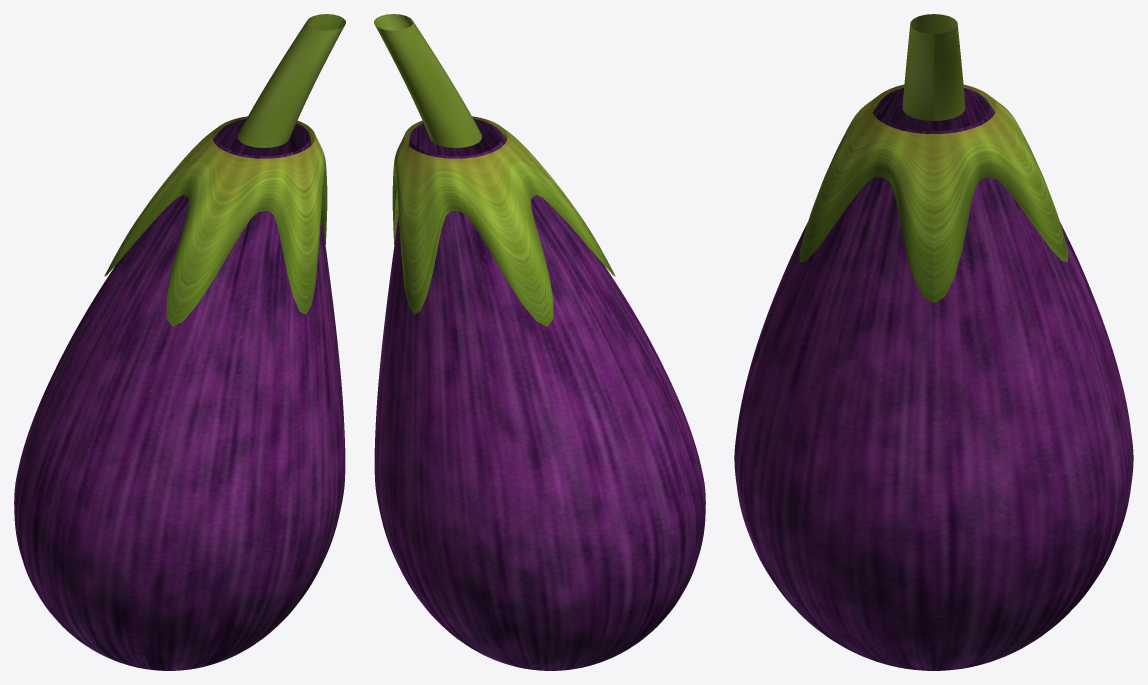
The model's file is plavi_patlidzan.glb.
The picture shows the model from 3 angles, left to right: view 1: azimuth 30°, elevation 25°; view 2: azimuth 150°, elevation 25°; view 3: azimuth 270°, elevation 25°; orthographic projection. The views are drawn at different scales.
Parts seen in each view (by area): view 1: plavi_patlidzan; view 2: plavi_patlidzan; view 3: plavi_patlidzan.
Boxes of the visible parts, box(x1,y1,x2,y2) form: plavi_patlidzan: box(14, 14, 345, 670); plavi_patlidzan: box(374, 14, 705, 670); plavi_patlidzan: box(734, 14, 1133, 670).
Size of the model in its own units: 0.6475 by 1.2 by 0.6.
Materials: 3 (3 with a texture image).
